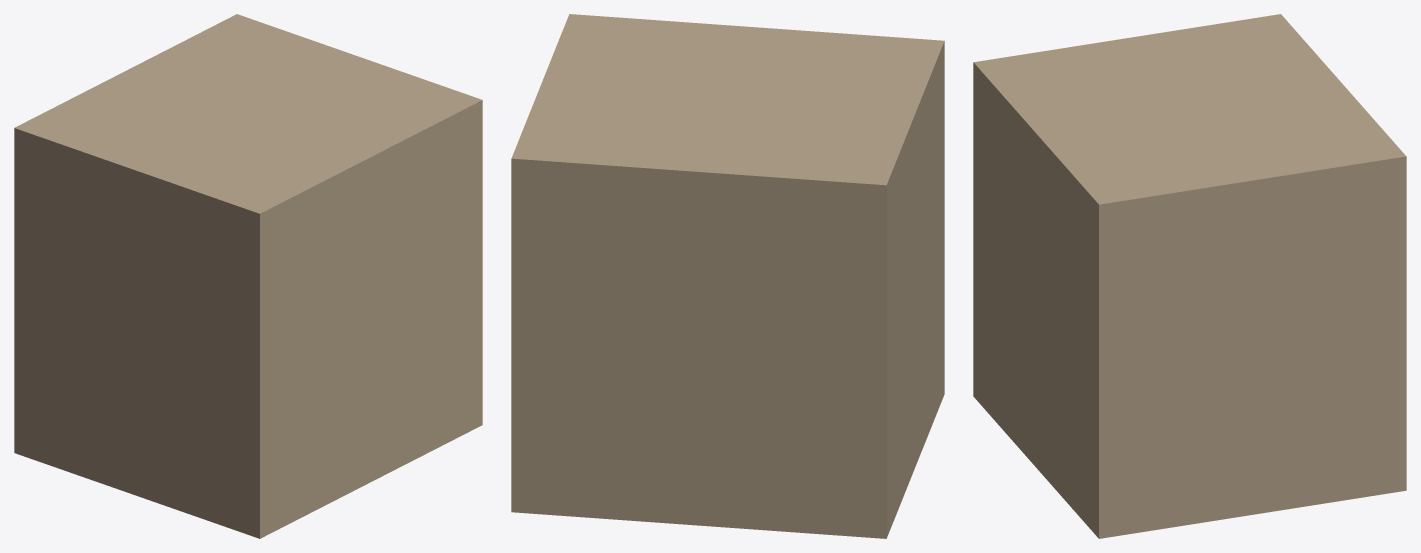
Rendered from bld_107610477.dae.
3 views of the same model, side by side, from view 1: azimuth 30°, elevation 25°; view 2: azimuth 150°, elevation 25°; view 3: azimuth 270°, elevation 25° (orthographic). The views are drawn at different scales.
Parts seen in each view (by area): view 1: bld_107610477; view 2: bld_107610477; view 3: bld_107610477.
Part boxes in pixels (x1,y1,x2,y2): bld_107610477: (14,14,482,538); bld_107610477: (511,14,944,538); bld_107610477: (973,14,1406,538).
Size of the model in its own units: 9.79 by 9.39 by 8.
